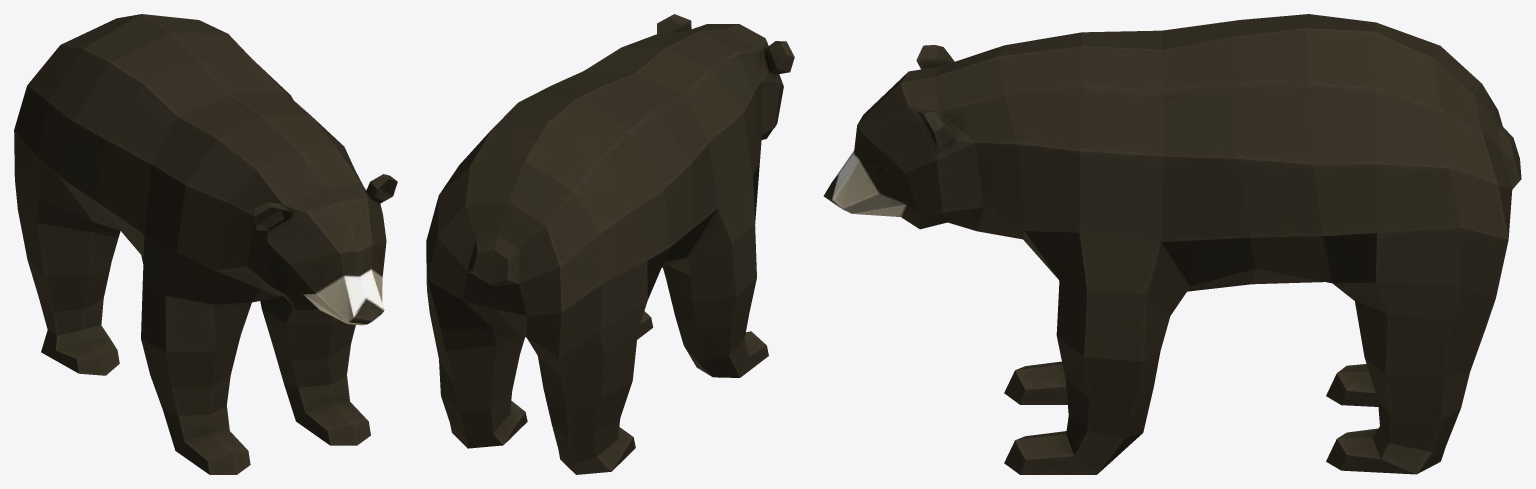
Rendered from Bear.glb.
3 renders of one model, left to right at view 1: azimuth 30°, elevation 25°; view 2: azimuth 150°, elevation 25°; view 3: azimuth 270°, elevation 25°, orthographic. The views are drawn at different scales.
Parts seen in each view (by area): view 1: BlackBear_mesh; view 2: BlackBear_mesh; view 3: BlackBear_mesh.
Part boxes in pixels (x1,y1,x2,y2): BlackBear_mesh: [14, 14, 397, 474]; BlackBear_mesh: [426, 14, 794, 474]; BlackBear_mesh: [823, 14, 1521, 474].
Bounding box in the file's own units: 6.68 × 10.22 × 16.13.
1 material, 1 textured.
